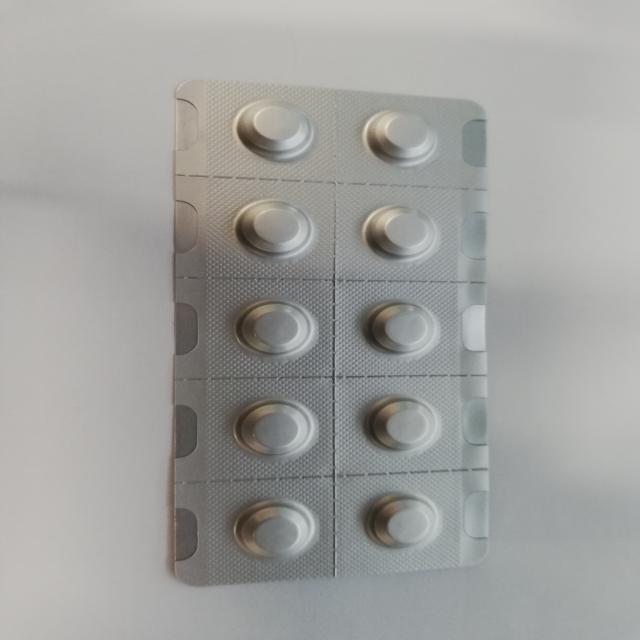Pill: (213, 83, 324, 168), (222, 393, 328, 468), (224, 293, 328, 365), (224, 492, 324, 565), (352, 100, 448, 176), (354, 296, 452, 366), (350, 382, 441, 457), (352, 488, 442, 561), (357, 198, 450, 266), (232, 193, 318, 263)
